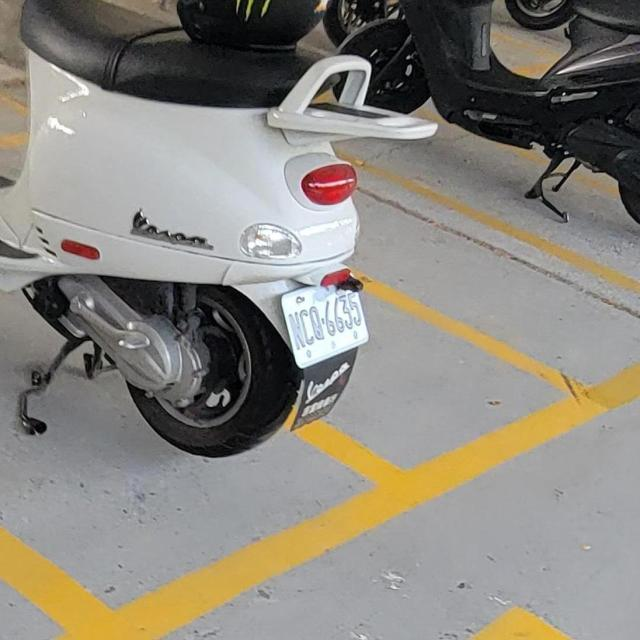W: (274, 268, 374, 373)
